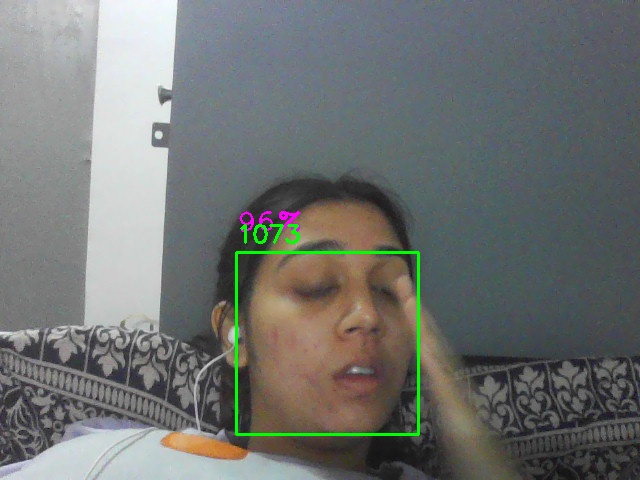real: (236, 252, 419, 435)
